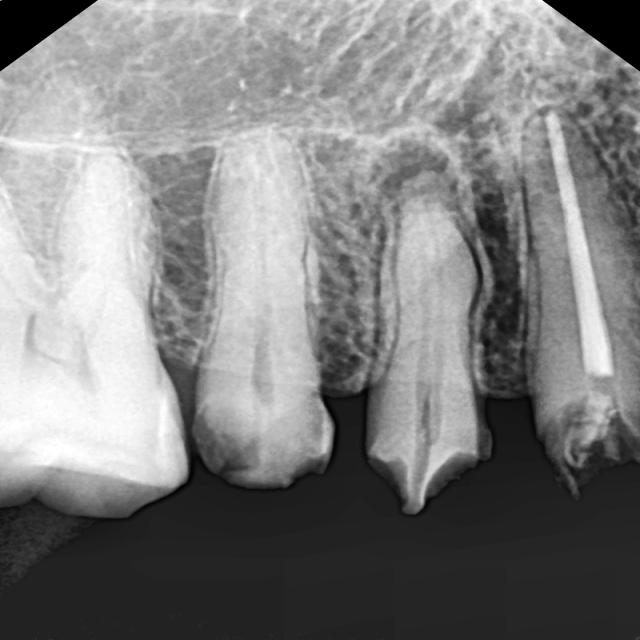Badly Decayed: (344, 152, 505, 527)
Caries: (195, 378, 345, 518), (519, 385, 640, 505)
RCT: (534, 107, 632, 377)
